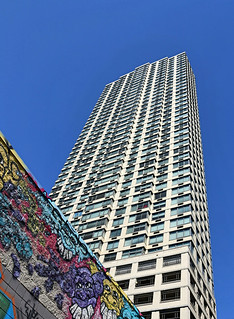medium: (27, 49, 219, 319)
